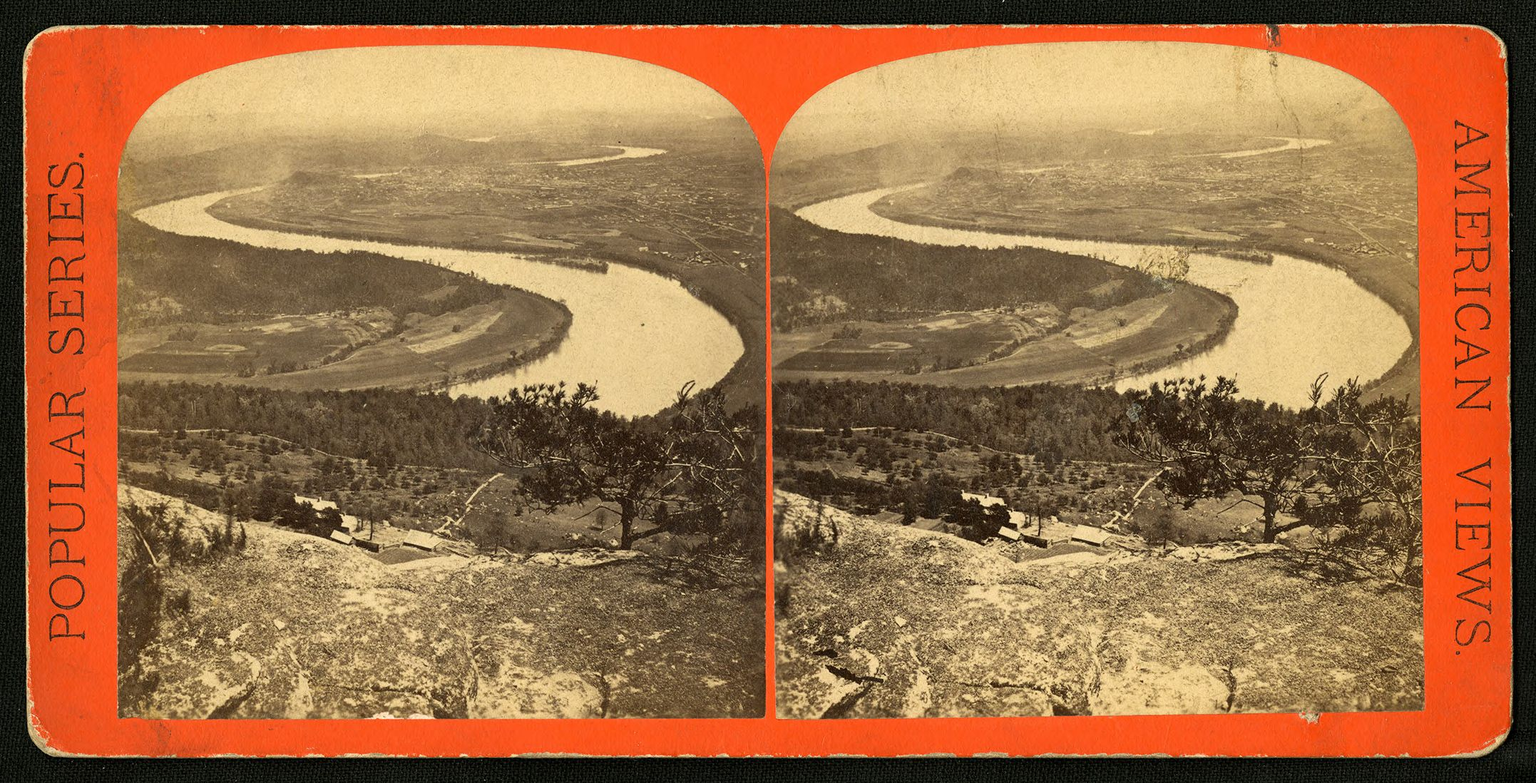half_image: (771, 41, 1423, 719), (117, 45, 767, 720)
